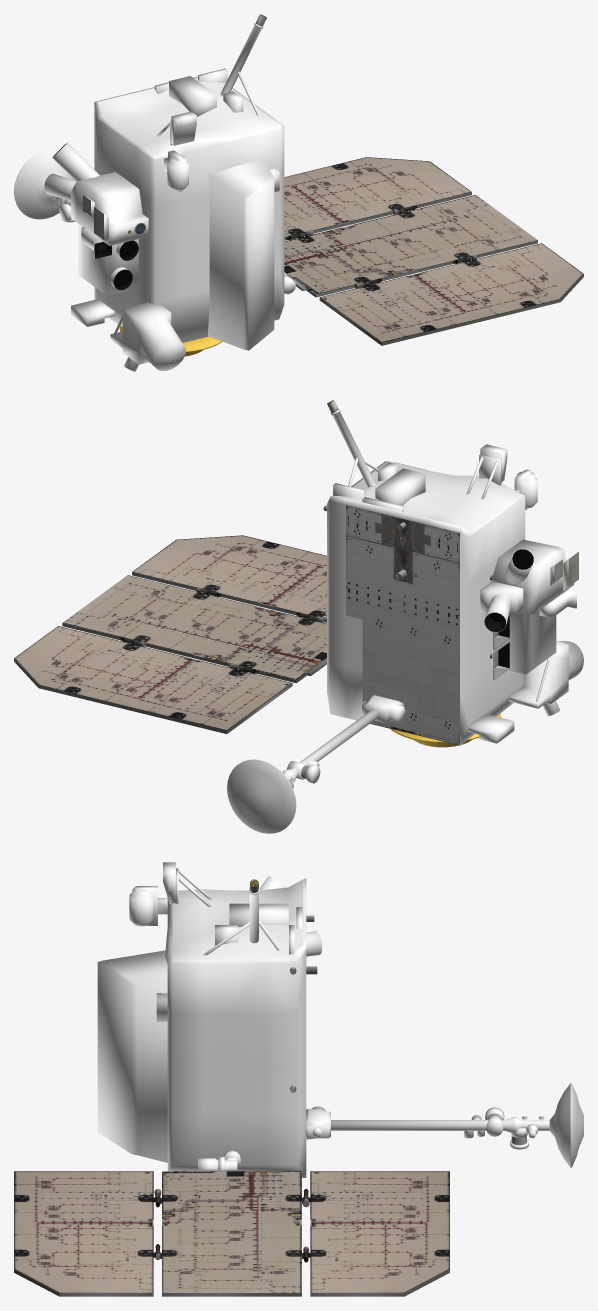
Rendered from lro.glb.
3 renders of one model, top to bottom at view 1: azimuth 30°, elevation 25°; view 2: azimuth 150°, elevation 25°; view 3: azimuth 270°, elevation 25°, orthographic. The views are drawn at different scales.
Visible parts, largest first — view 1: LRO, tex, dark_black; view 2: tex, LRO, panel, foil_silver_dish, dark_black; view 3: LRO, tex, foil_silver_dish.
Part boxes in pixels (left/top/right/bottom): LRO: left=14, top=22, right=295, bottom=371; tex: left=70, top=14, right=583, bottom=356; dark_black: left=53, top=143, right=138, bottom=290; tex: left=14, top=400, right=578, bottom=778; LRO: left=249, top=409, right=583, bottom=827; panel: left=346, top=505, right=459, bottom=745; foil_silver_dish: left=227, top=759, right=295, bottom=833; dark_black: left=484, top=549, right=533, bottom=668; LRO: left=97, top=862, right=571, bottom=1177; tex: left=14, top=879, right=526, bottom=1296; foil_silver_dish: left=571, top=1083, right=583, bottom=1167.
Bounding box in the file's own units: 5.45 × 3.66 × 5.5.
Materials: 8 (4 with a texture image).
